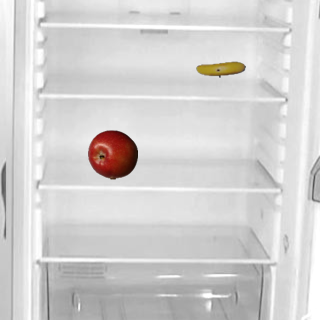Apple Braeburn: (87, 129, 137, 179)
Banana: (195, 44, 245, 94)
